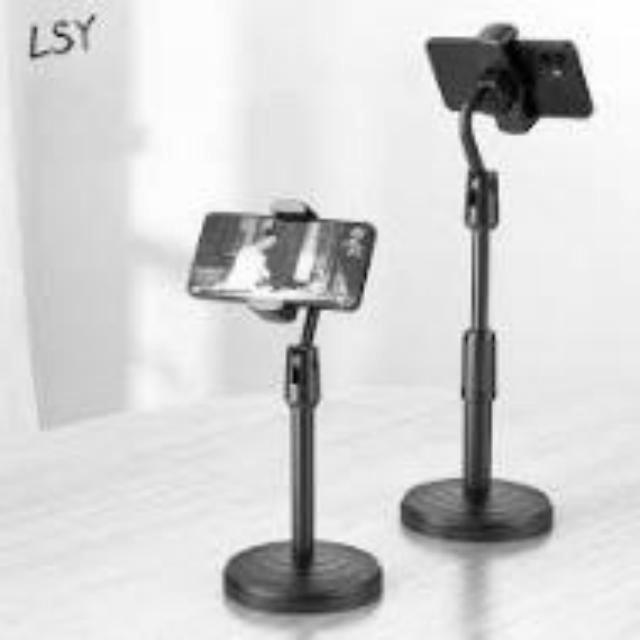fake: (194, 194, 402, 346), (411, 20, 612, 147)
